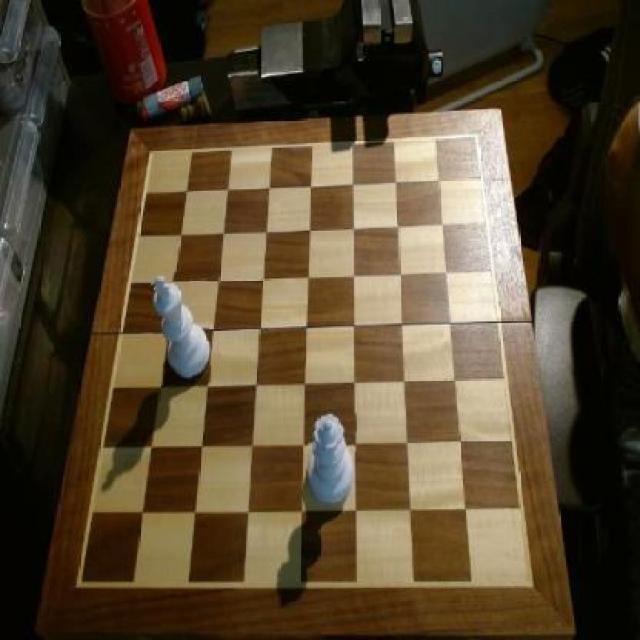white-bishop: (152, 272, 210, 386)
white-pawn: (306, 411, 356, 508)
